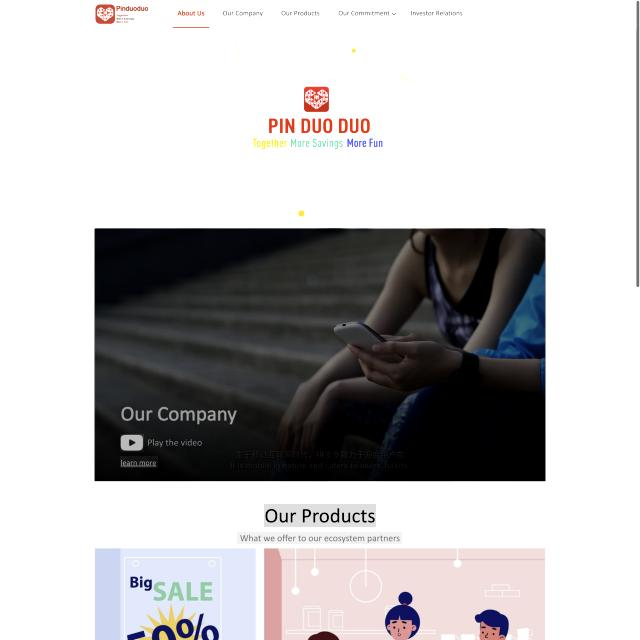CheckBox: (120, 456, 158, 468), (120, 434, 144, 452)
Input field: (237, 532, 402, 544)
bag: (0, 0, 637, 30)
breadcrumbs: (264, 504, 376, 527)
card: (94, 229, 546, 481)
content: (92, 30, 546, 228)
date picker: (91, 3, 150, 25)
decoration: (168, 2, 467, 31)
